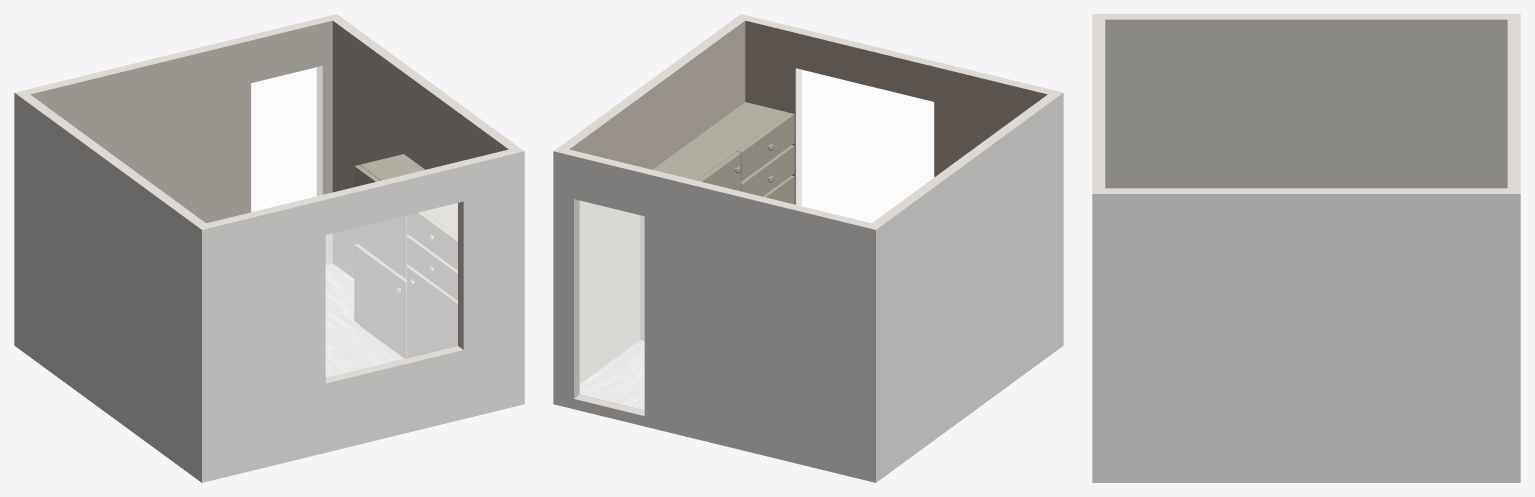
The model's file is chambre_papi.glb.
3 renders of one model, left to right at view 1: azimuth 30°, elevation 25°; view 2: azimuth 150°, elevation 25°; view 3: azimuth 270°, elevation 25°, orthographic. The views are drawn at different scales.
Parts seen in each view (by area): view 1: wall_1 (×3), wall_2 (×2), window_0 (×2), wall_0 (×3), door_0 (×2), wall_3 (×2), storage0, floor_Other_0; view 2: wall_0 (×3), wall_2 (×2), window_0 (×2), door_0 (×2), wall_3 (×2), wall_1 (×3), storage0, floor_Other_0; view 3: wall_3 (×2), wall_2 (×2), wall_0, wall_1.
Boxes of the visible parts, bbox=[...] form: wall_1 (×3): bbox=[202, 149, 524, 482]; wall_2 (×2): bbox=[14, 92, 205, 482]; window_0 (×2): bbox=[326, 203, 457, 377]; wall_0 (×3): bbox=[15, 14, 336, 264]; door_0 (×2): bbox=[251, 66, 322, 211]; wall_3 (×2): bbox=[332, 14, 523, 277]; storage0: bbox=[354, 154, 457, 358]; floor_Other_0: bbox=[326, 263, 403, 377]; wall_0 (×3): bbox=[553, 149, 875, 482]; wall_2 (×2): bbox=[872, 92, 1063, 482]; window_0 (×2): bbox=[796, 68, 933, 222]; door_0 (×2): bbox=[580, 201, 644, 409]; wall_3 (×2): bbox=[554, 14, 745, 383]; wall_1 (×3): bbox=[741, 14, 1062, 205]; storage0: bbox=[640, 102, 794, 340]; floor_Other_0: bbox=[580, 340, 644, 410]; wall_3 (×2): bbox=[1092, 188, 1520, 482]; wall_2 (×2): bbox=[1093, 14, 1519, 188]; wall_0: bbox=[1507, 14, 1520, 193]; wall_1: bbox=[1092, 14, 1105, 193].
Size of the model in its own units: 3.25 by 2.44 by 3.28.
